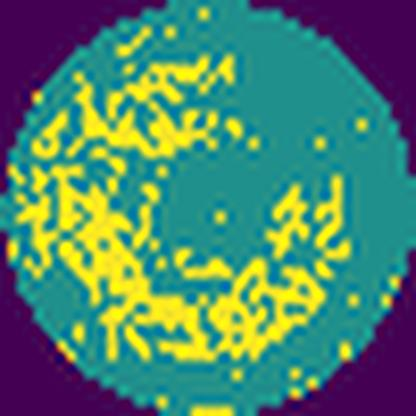Donut: (3, 43, 357, 372)
